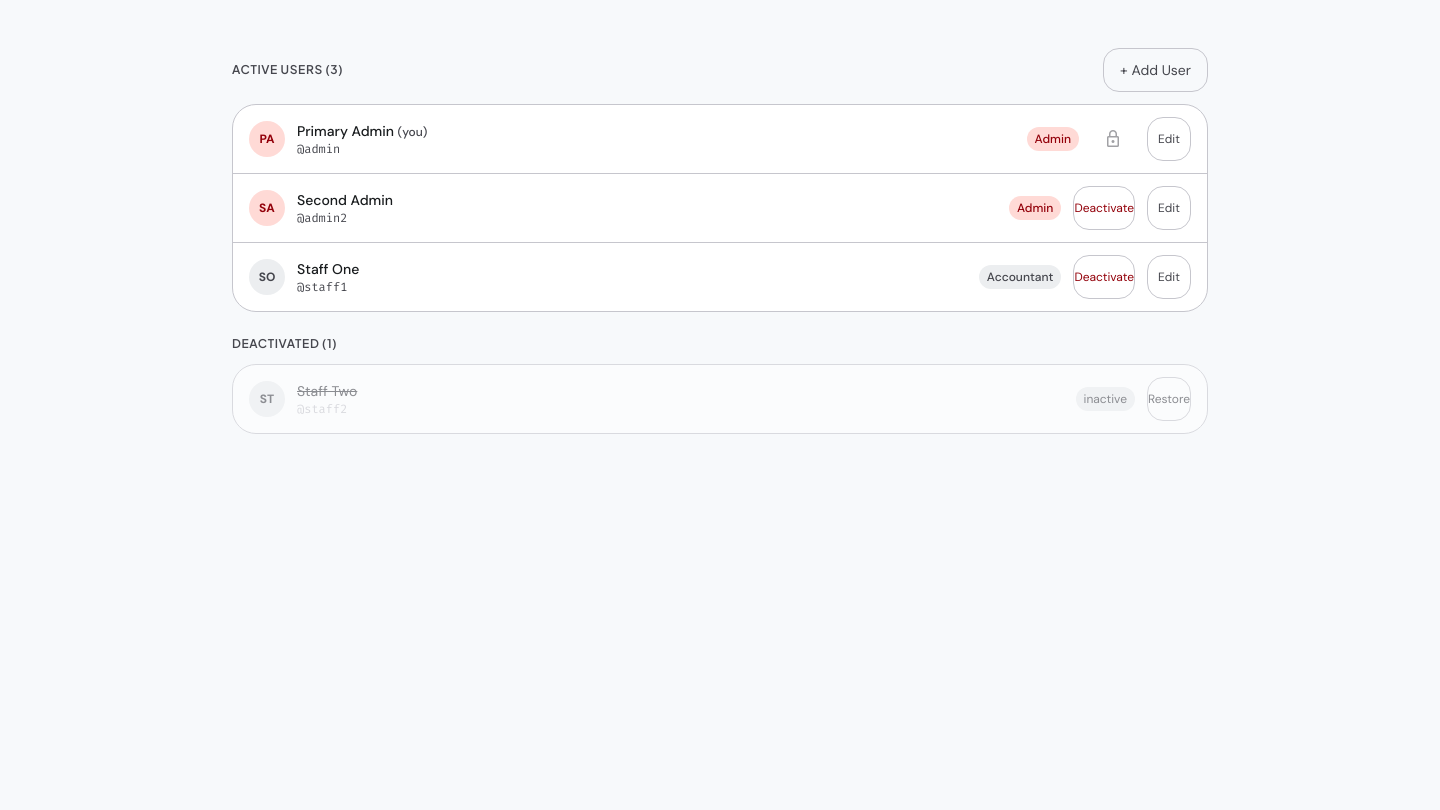
it: Admin reset-password field › shows the real server error on a 422 instead of a generic message
Click the button "Edit" in the row of "Second Admin".
click(1169, 208)  # box left=1147, top=186, right=1191, bottom=230
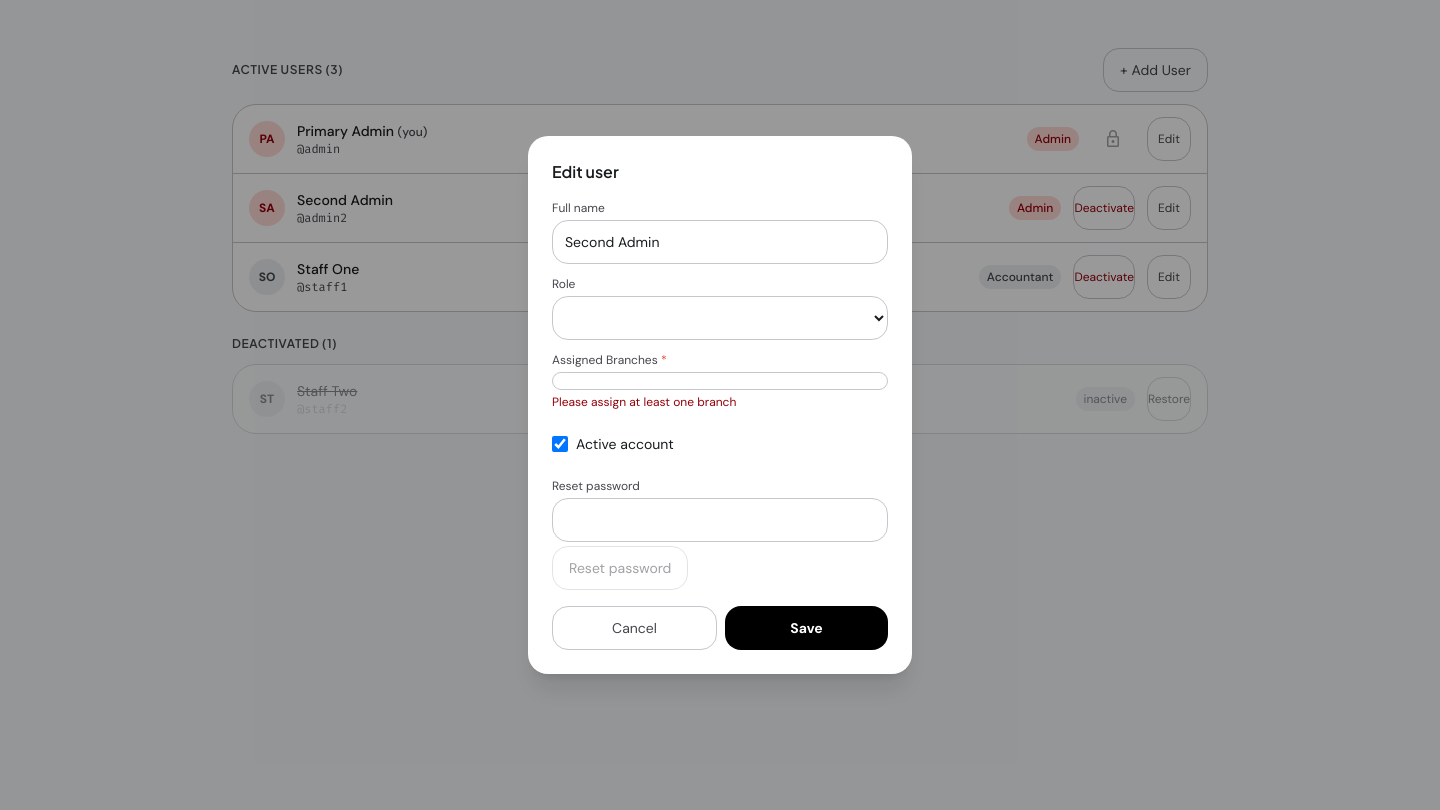
Type "short" into the password field labelled "Reset password".
click(720, 520); type("short")  # box left=552, top=498, right=888, bottom=542
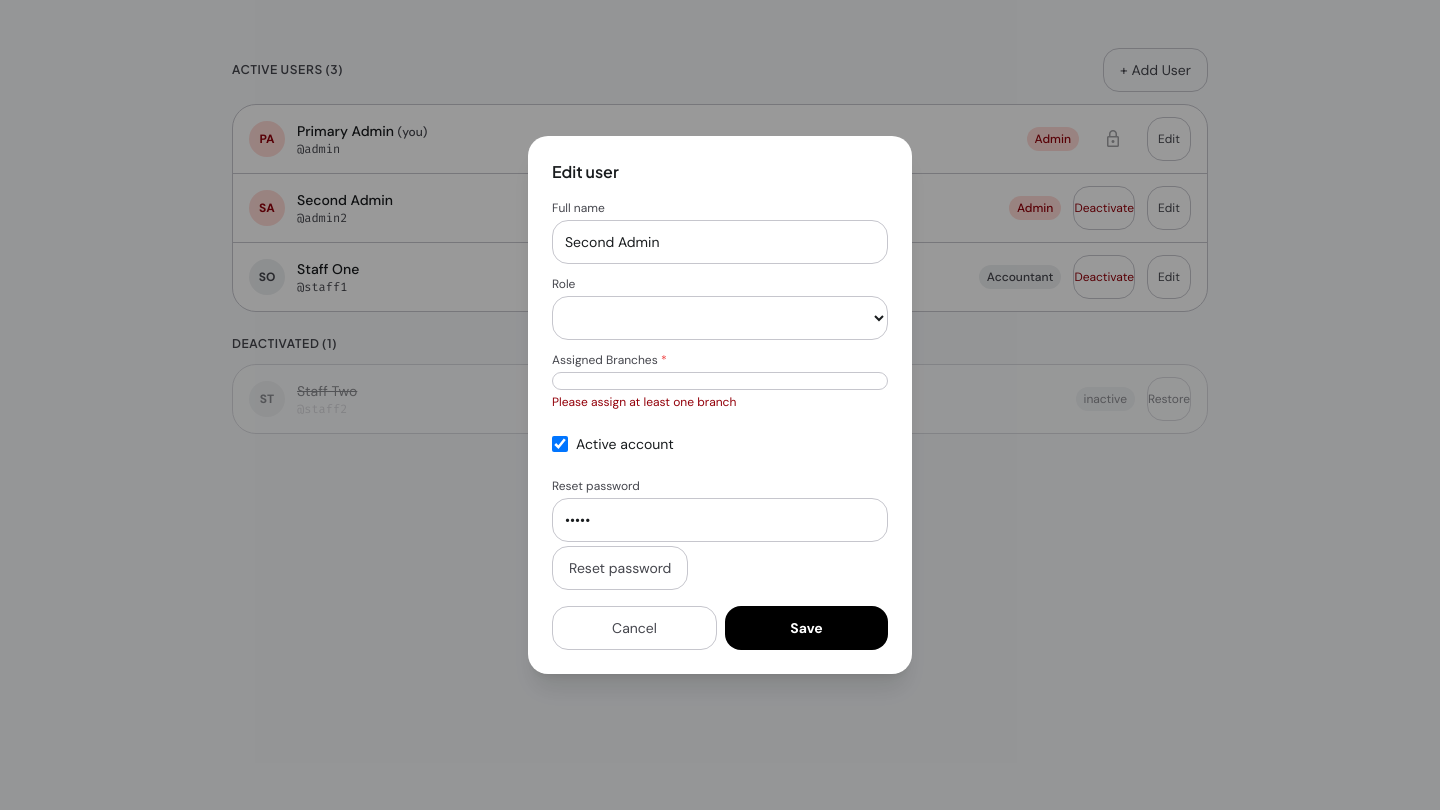
Click the button "Reset password".
click(620, 568)  # box left=552, top=546, right=688, bottom=590
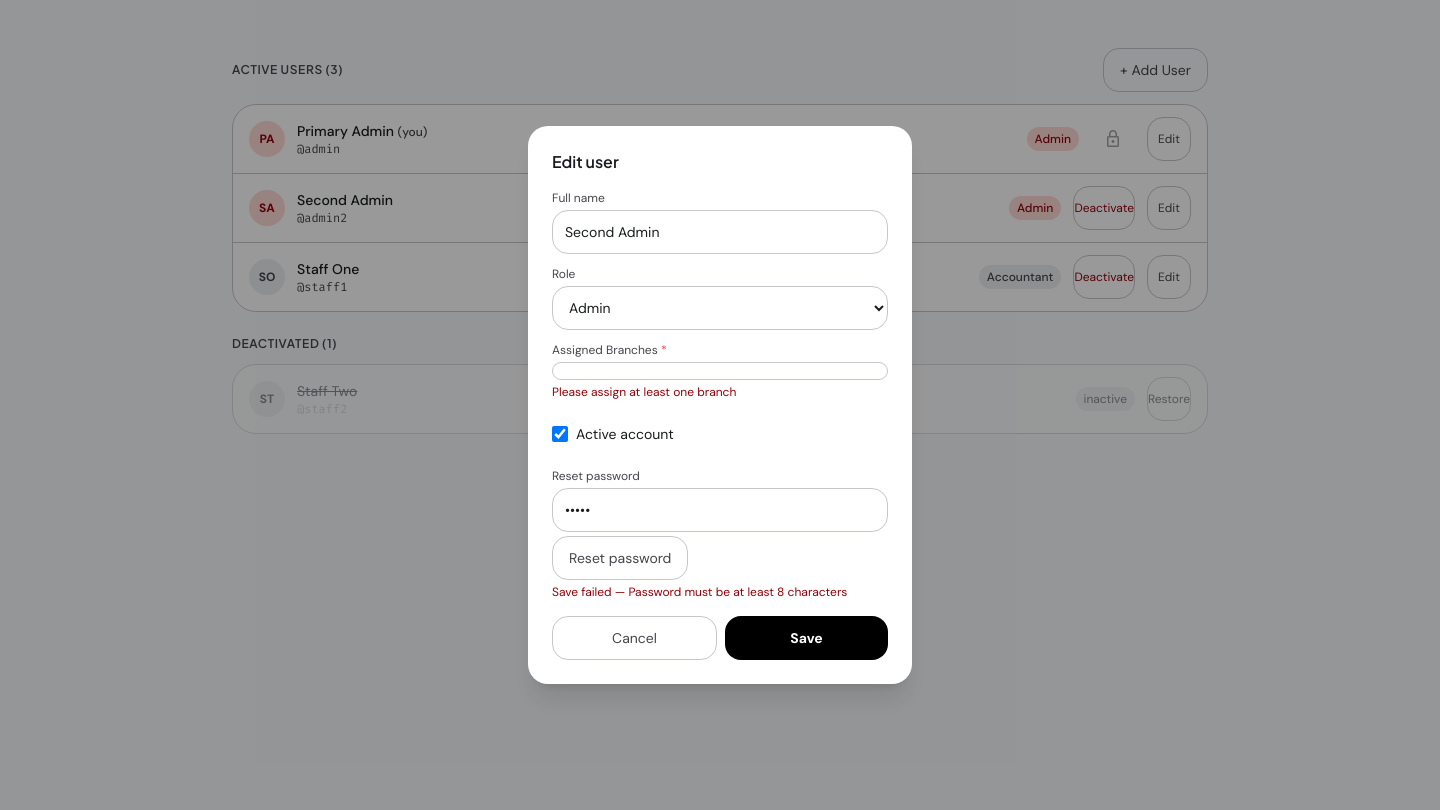
Now the text "Save failed — Password must be at least 8 characters" is shown, box left=552, top=584, right=888, bottom=600
